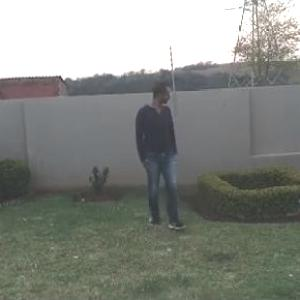follow: (138, 75, 186, 243)
